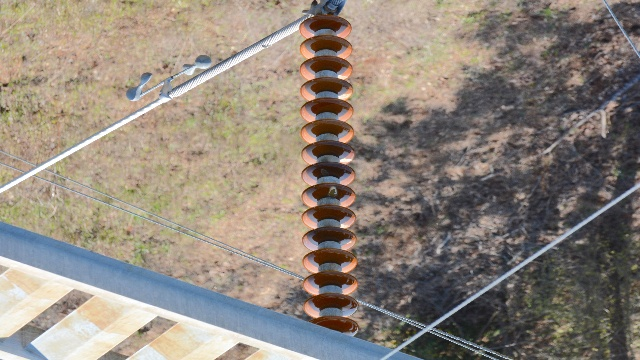insulator_unspecified: (296, 17, 360, 337)
pollution_flashover_local: (329, 185, 338, 198), (320, 168, 329, 176)
